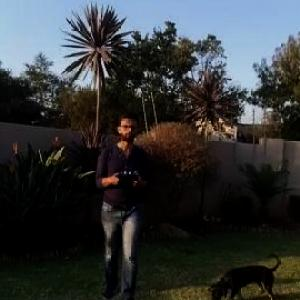follow: (91, 102, 150, 299)
null: (208, 251, 282, 299)
